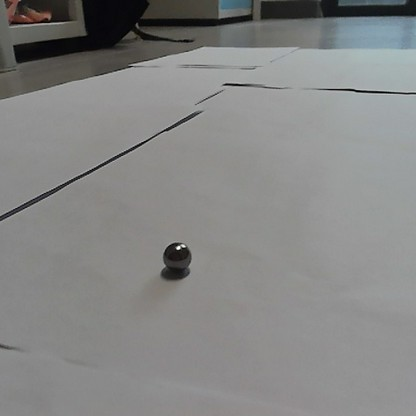ironball: (162, 239, 192, 274)
